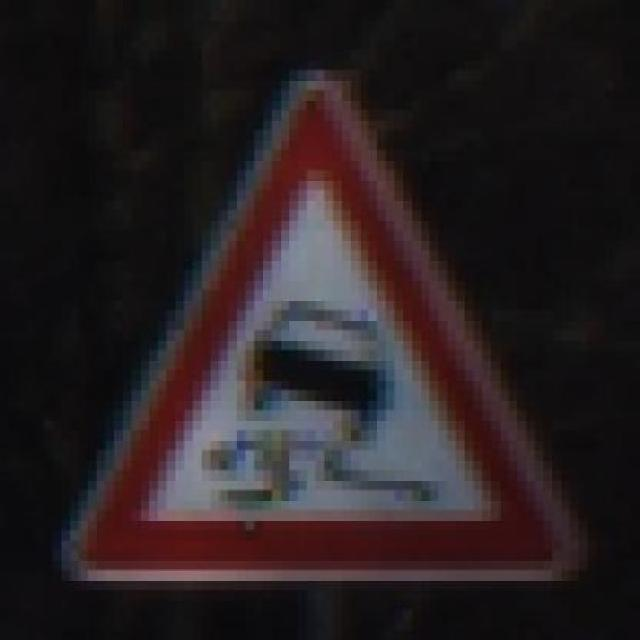Slippery Road Ahead: (58, 56, 584, 586)
